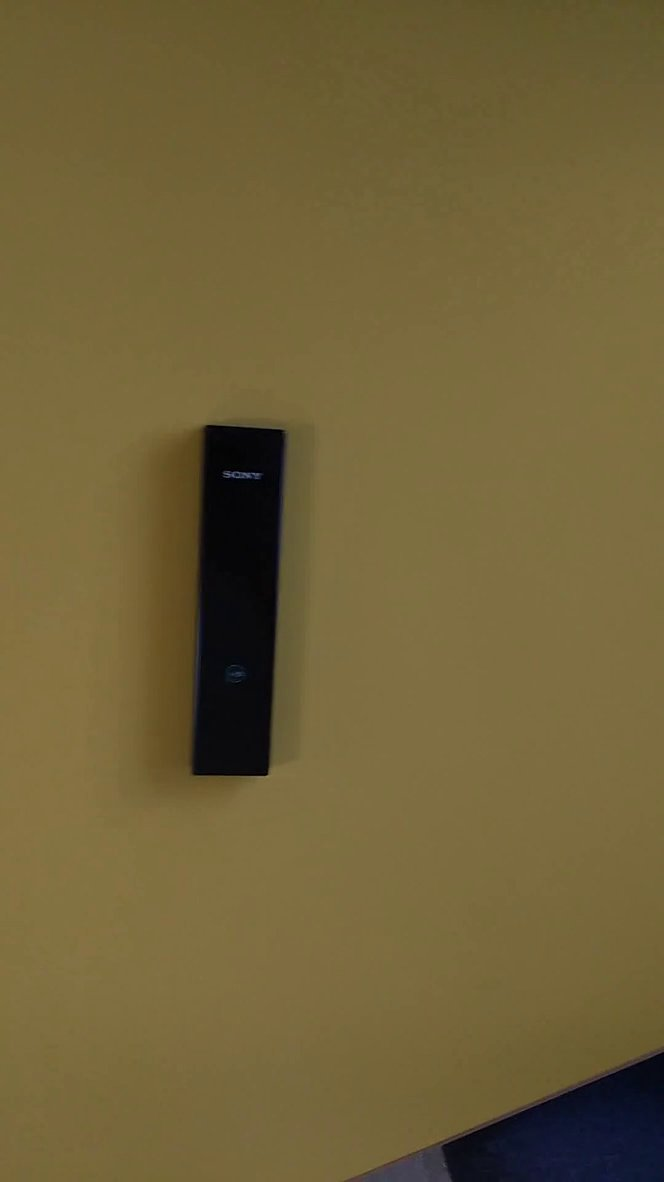remote: (169, 403, 301, 792)
